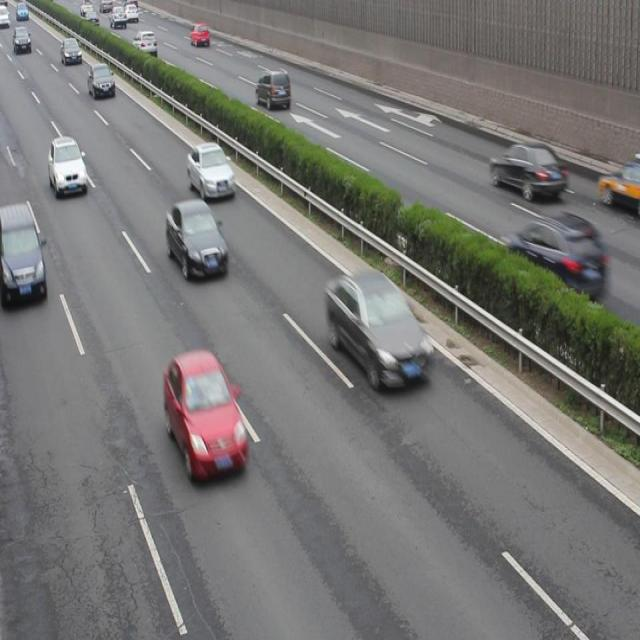car: (326, 270, 433, 390), (164, 352, 247, 480), (503, 212, 601, 298), (166, 200, 228, 278), (1, 206, 46, 305), (490, 144, 567, 200), (187, 142, 237, 200), (48, 136, 87, 193), (256, 67, 288, 108), (90, 61, 112, 97), (134, 30, 157, 58), (61, 38, 82, 64), (190, 22, 208, 46)
